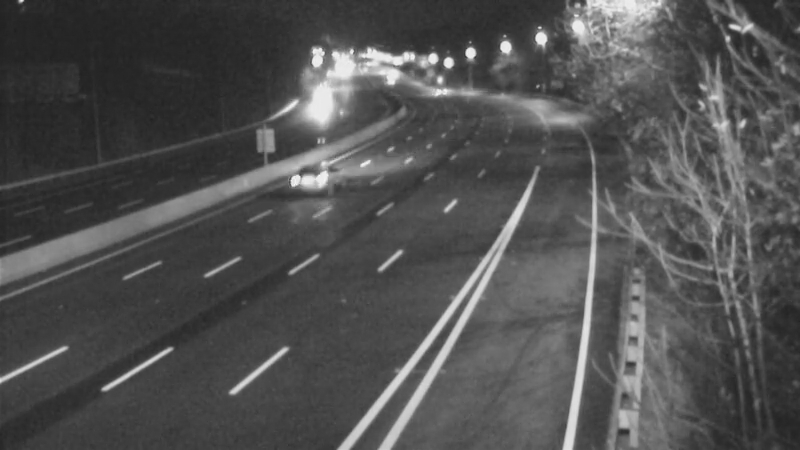vehicle: (268, 138, 348, 218), (406, 67, 456, 117), (294, 77, 344, 127)
